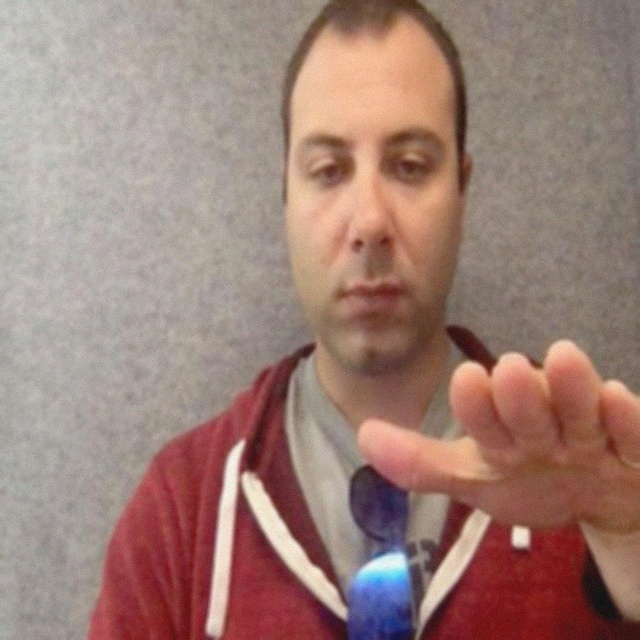Paper: (350, 338, 640, 551)
